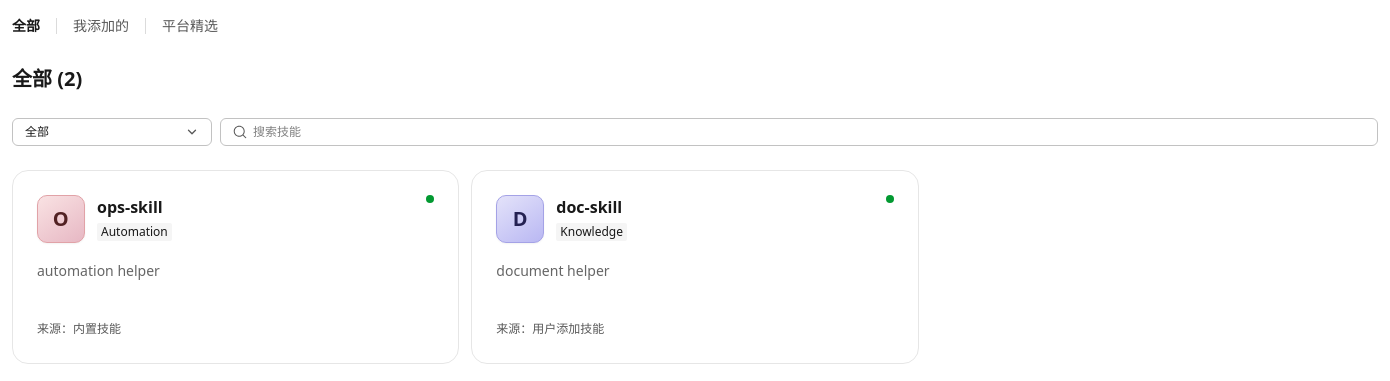
Test: business theme hub shell › skill source tabs and category dropdown › switches to user-added skills from the source tab
Click the button "我添加的": click(101, 26) [73, 12, 129, 40]
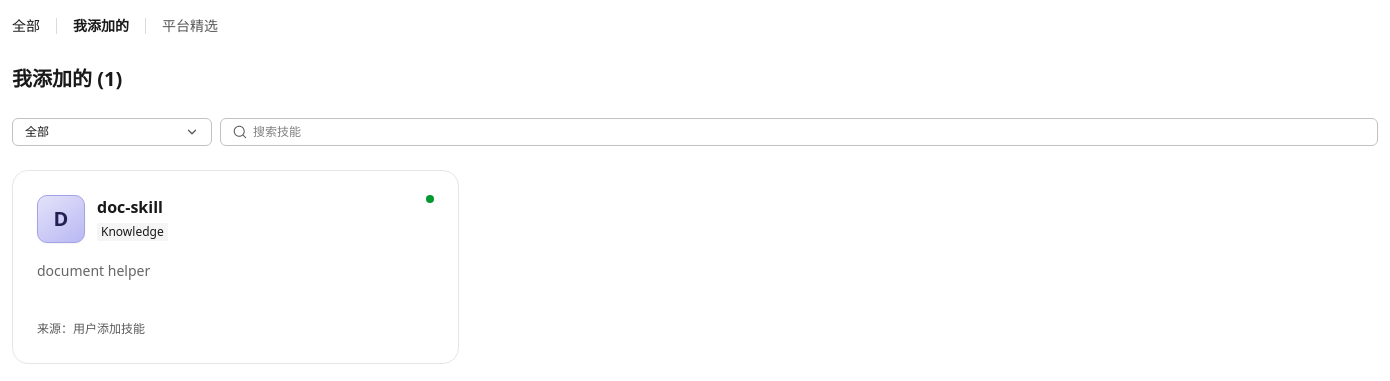
Check: the text "doc-skill" is shown, box [97, 196, 163, 218]
Check: the text "ops-skill" is gone
Check: the text "我添加的 (1)" is shown, box [12, 64, 122, 94]
